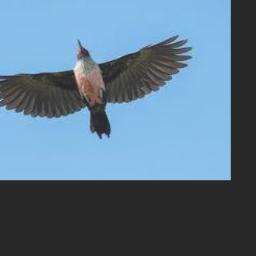Woodpecker: (0, 35, 192, 139)
